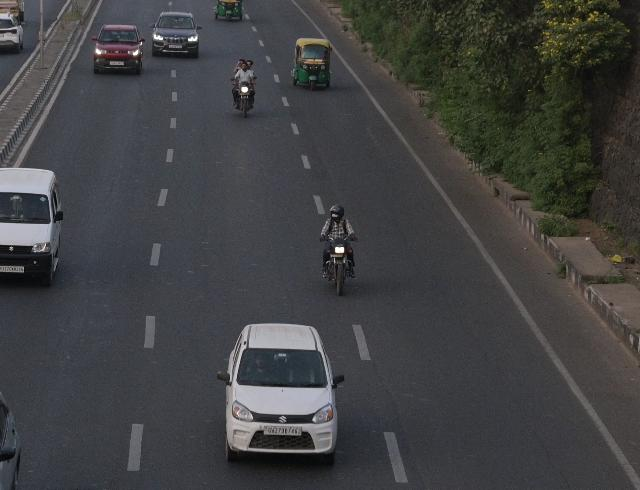With Helmet: (327, 202, 347, 222)
Without Helmet: (241, 62, 247, 70), (248, 60, 252, 68)
